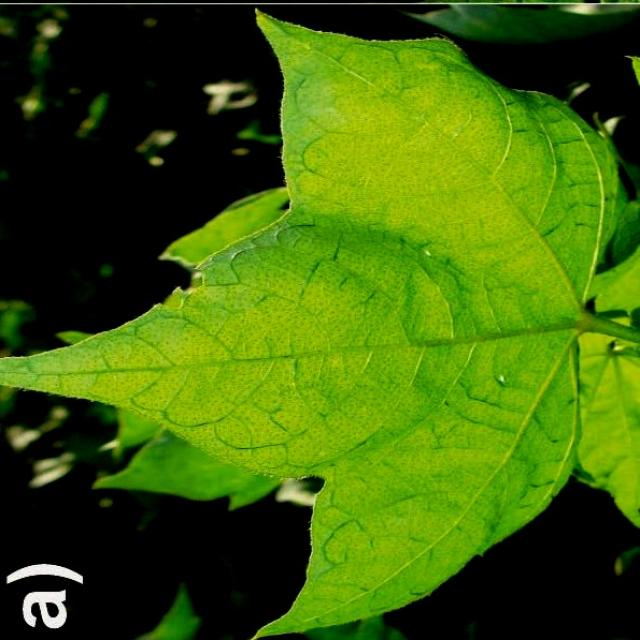Leaf Curl Virus: (198, 68, 582, 522)
